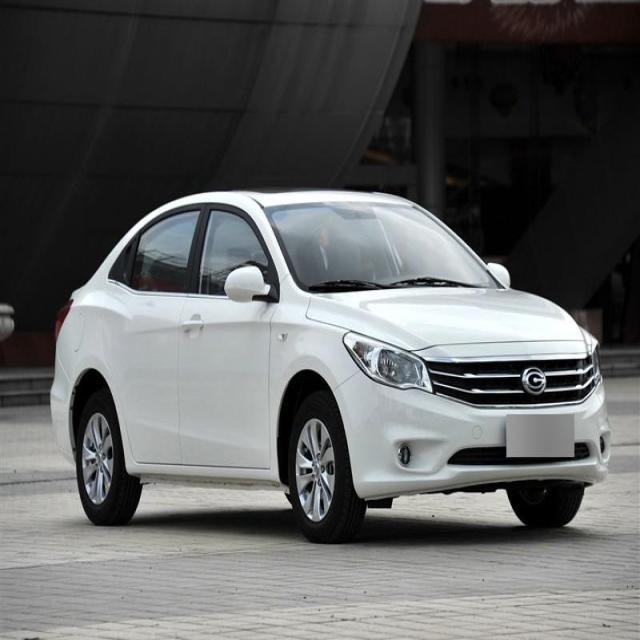back_right_side_light: (54, 299, 73, 349)
door: (100, 212, 207, 481)
front_bumper: (331, 370, 612, 499)
front_glass: (263, 205, 503, 292)
front_left_side_light: (581, 326, 602, 386)
front_left_side_mirror: (486, 260, 513, 288)
front_right_side_door: (174, 201, 274, 472)
front_right_side_light: (342, 328, 434, 394)
front_right_side_mirror: (224, 264, 278, 309)
wheel: (286, 394, 366, 541), (77, 394, 141, 527), (506, 486, 586, 530)
